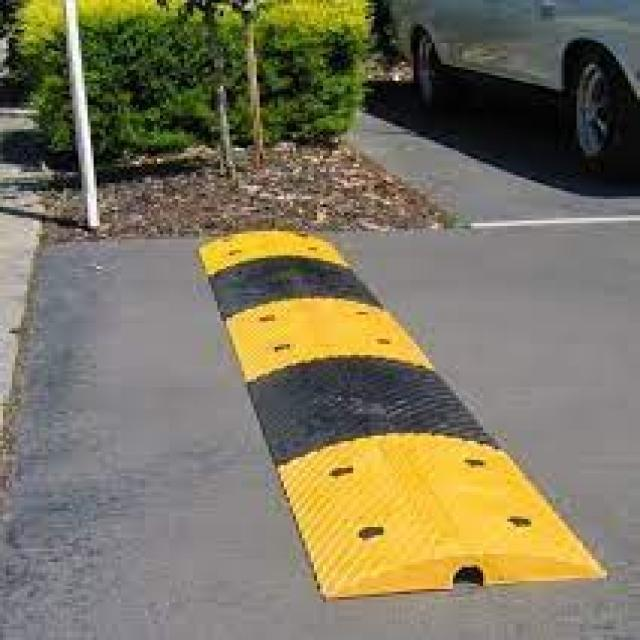Marked Bump: (200, 220, 588, 598)
